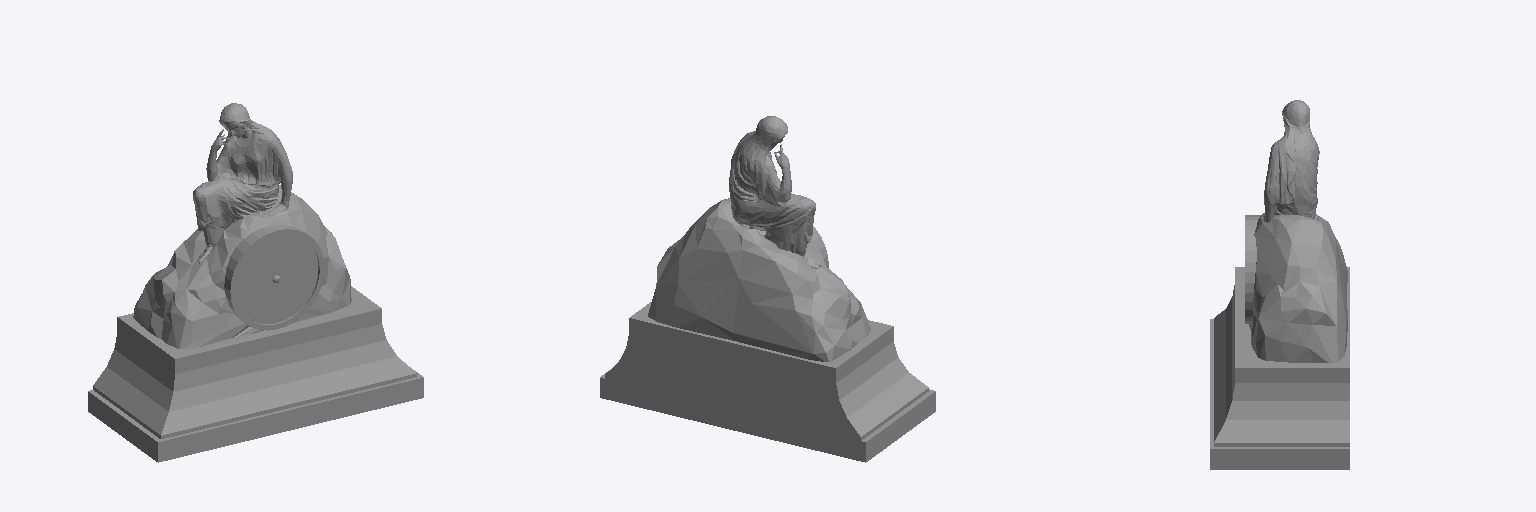
File: TableClock.obj
3 views of the same model, side by side, from view 1: azimuth 30°, elevation 25°; view 2: azimuth 150°, elevation 25°; view 3: azimuth 270°, elevation 25° (orthographic).
Visible parts, largest first — view 1: TableClock; view 2: TableClock; view 3: TableClock.
Boxes of the visible parts, box(x1,y1,x2,y2) form: TableClock: box(88, 103, 423, 462); TableClock: box(600, 116, 935, 462); TableClock: box(1210, 100, 1349, 469).
Bounding box in the file's own units: 10.7 × 11.41 × 4.89.